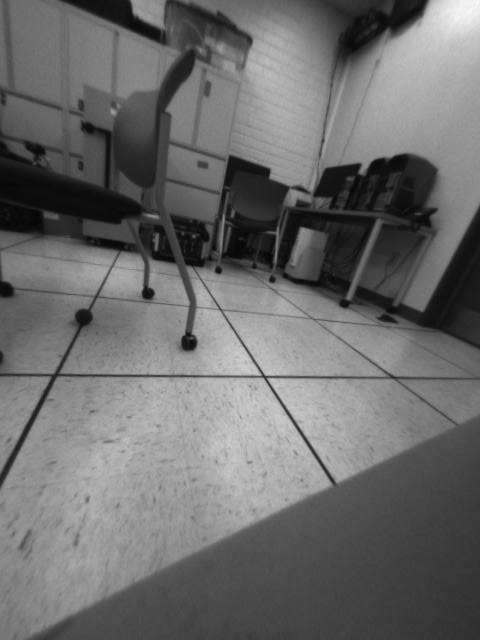dogtoy: (69, 303, 100, 330)
